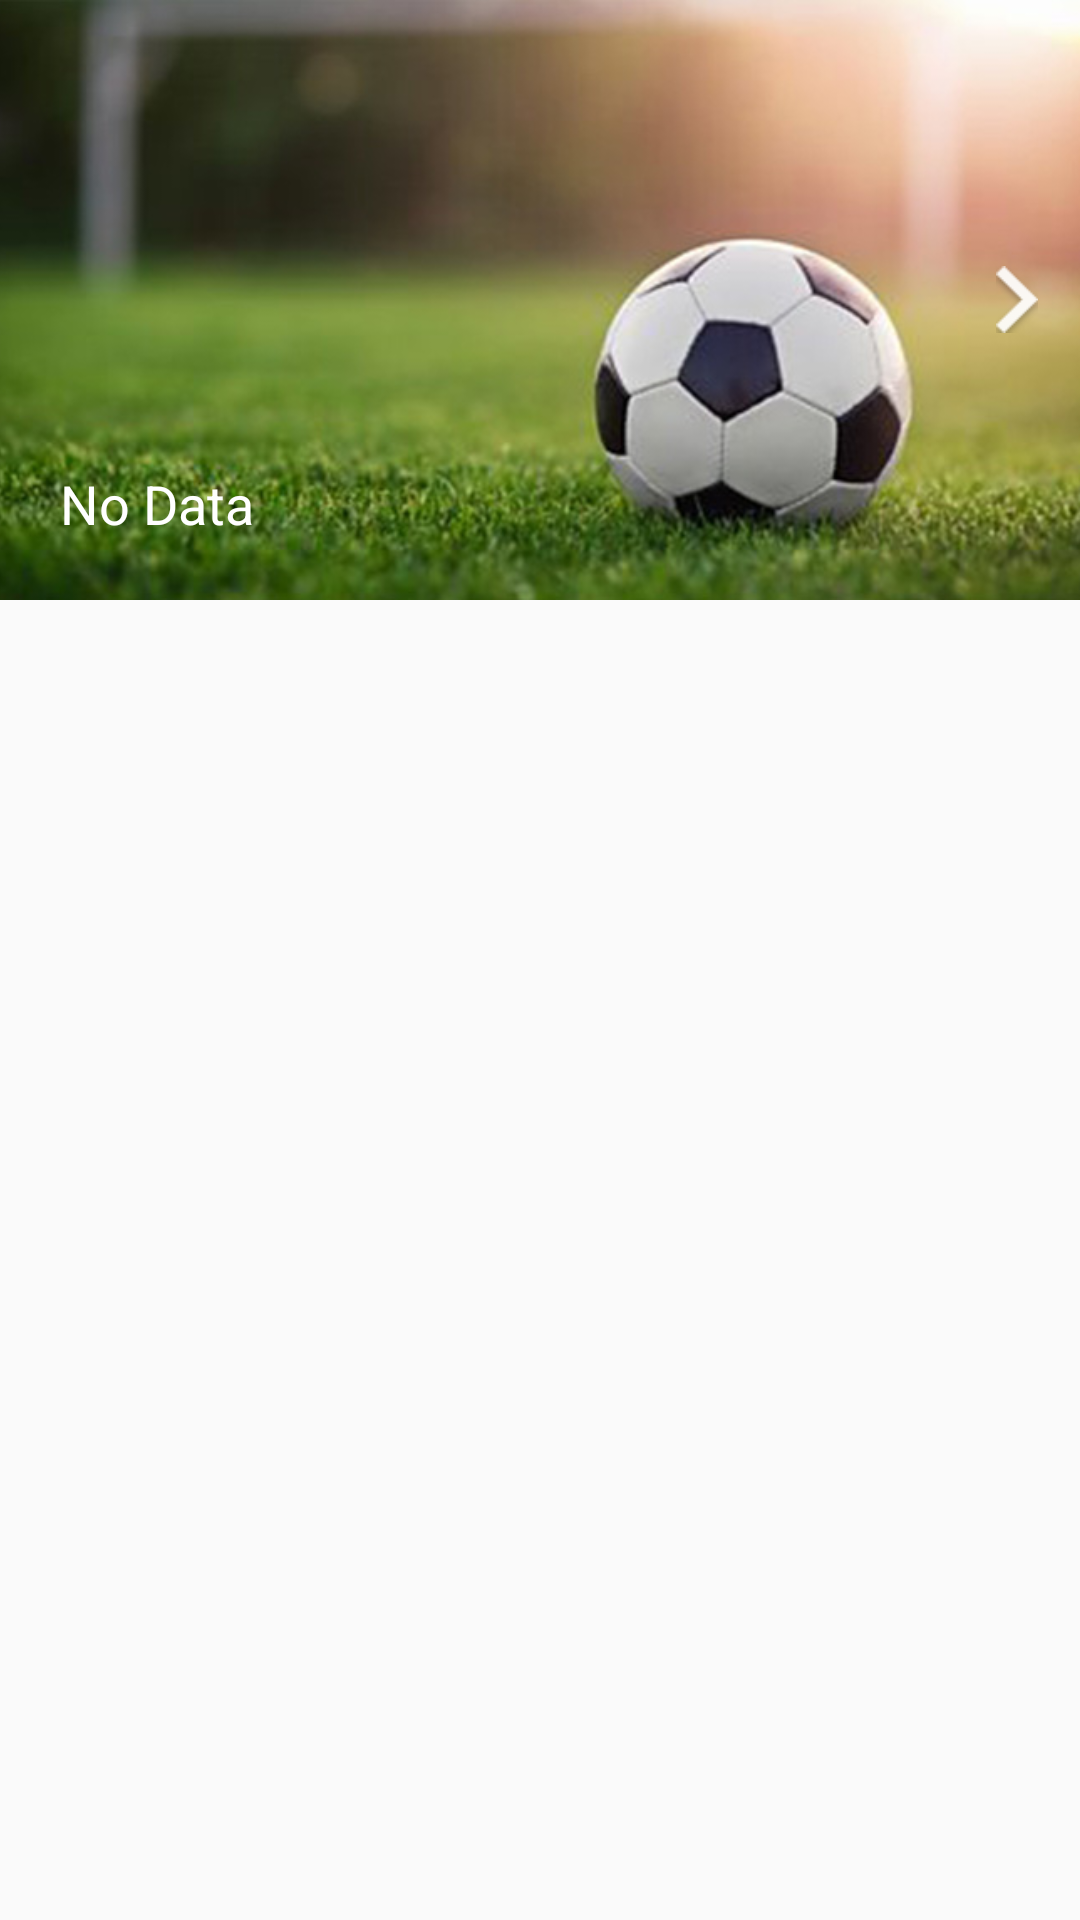

Where to tap for icons on this 1080w x 1920h app screen, as (x,y):
arrow: (1017,299)
